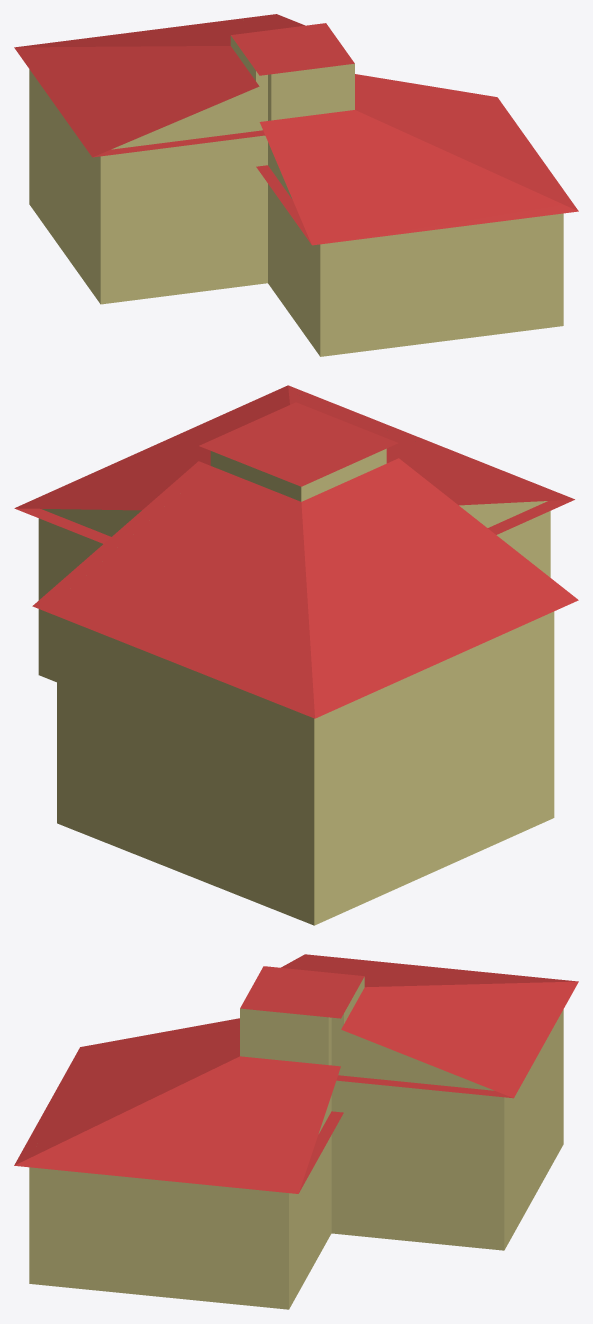
3 views of the same model, one above another, from view 1: azimuth 30°, elevation 25°; view 2: azimuth 150°, elevation 25°; view 3: azimuth 270°, elevation 25° (orthographic). The views are drawn at different scales.
Size of the model in its own units: 18.71 by 22 by 9.51.
